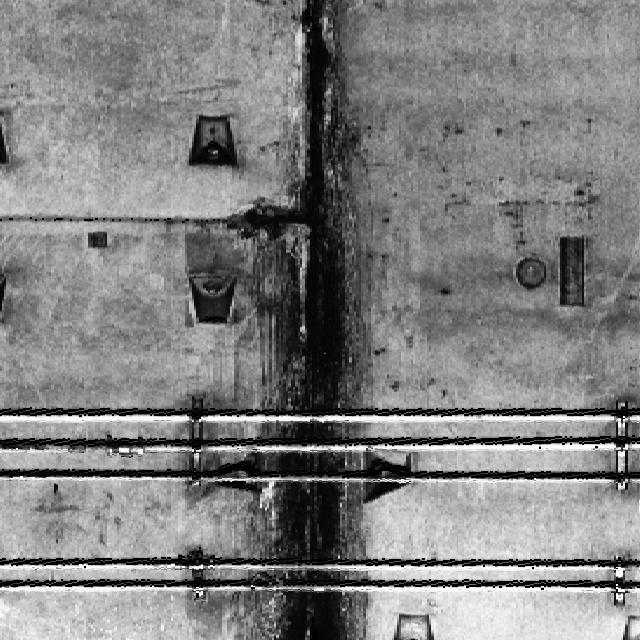leakage: (236, 0, 380, 632)
